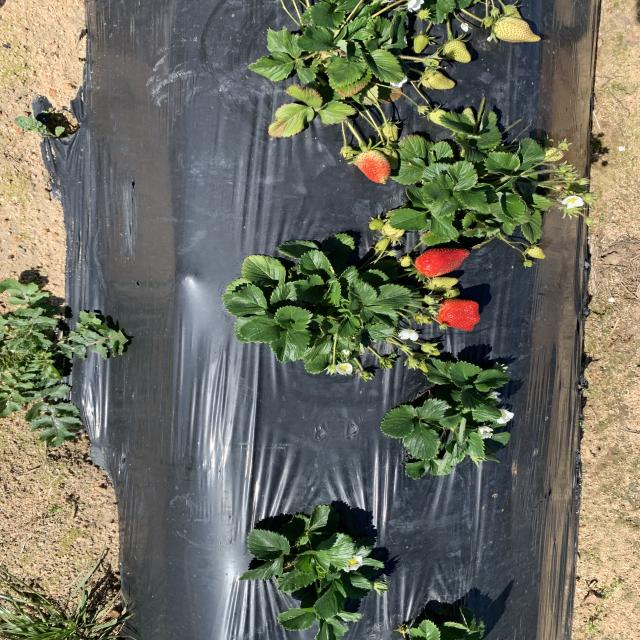unripe: (411, 246, 471, 278), (437, 294, 482, 332), (357, 150, 393, 185)
